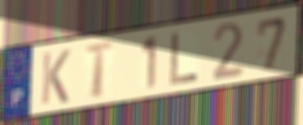1: (139, 33, 157, 93)
2: (210, 20, 246, 84)
7: (255, 14, 289, 73)
K: (39, 47, 72, 107)
L: (168, 31, 200, 88)
T: (82, 40, 117, 101)
